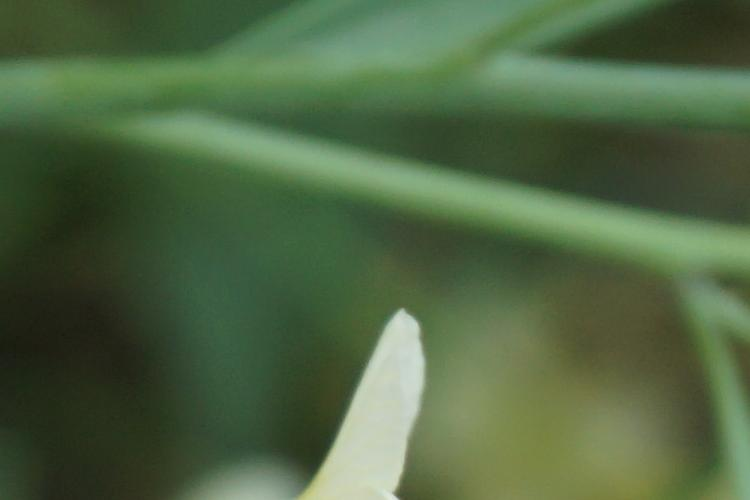white: (255, 303, 445, 500)
